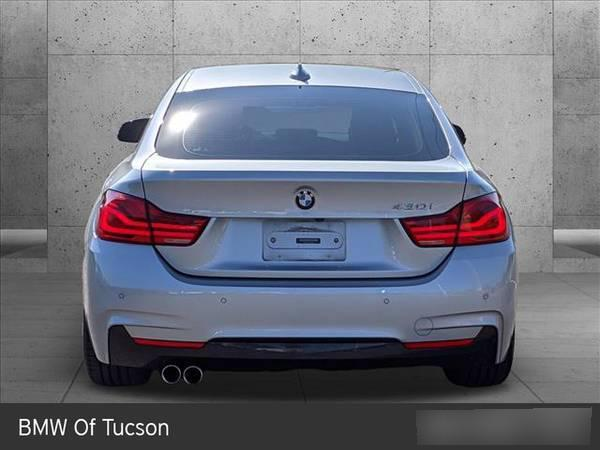Left_Taillight: (89, 188, 210, 247)
Rear_Bumper: (83, 233, 518, 367)
Rear_Windshield: (144, 83, 453, 160)
Right_Taillight: (399, 190, 512, 247)
Roof: (168, 57, 427, 94)
Tailgate: (108, 149, 497, 283)
